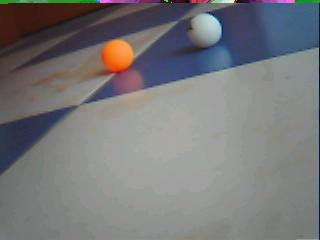oball: (101, 39, 133, 72)
